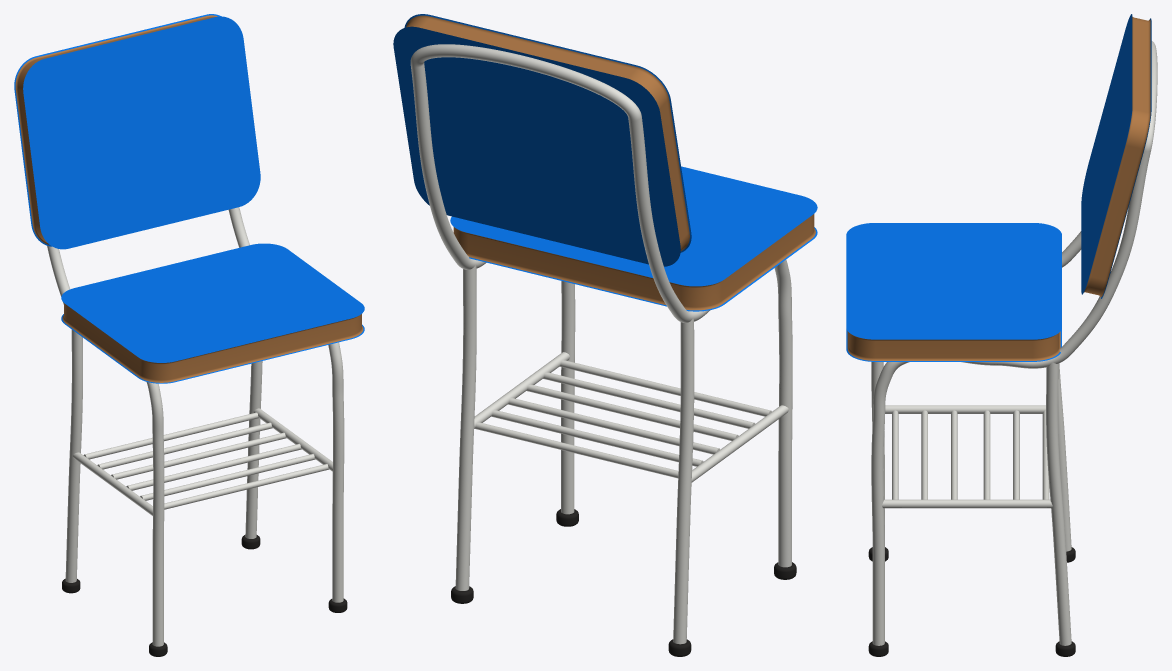
File: Silla.fbx
3 renders of one model, left to right at view 1: azimuth 30°, elevation 25°; view 2: azimuth 150°, elevation 25°; view 3: azimuth 270°, elevation 25°, orthographic. The views are drawn at different scales.
Parts seen in each view (by area): view 1: Silla; view 2: Silla; view 3: Silla.
Part boxes in pixels (x1,y1,x2,y2): Silla: (14, 14, 364, 656); Silla: (393, 14, 817, 656); Silla: (846, 14, 1157, 656).
Size of the model in its own units: 169 by 367 by 190.
